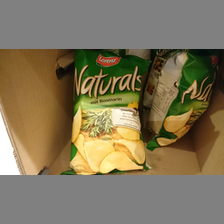chips: (69, 54, 151, 174), (150, 54, 217, 150)
